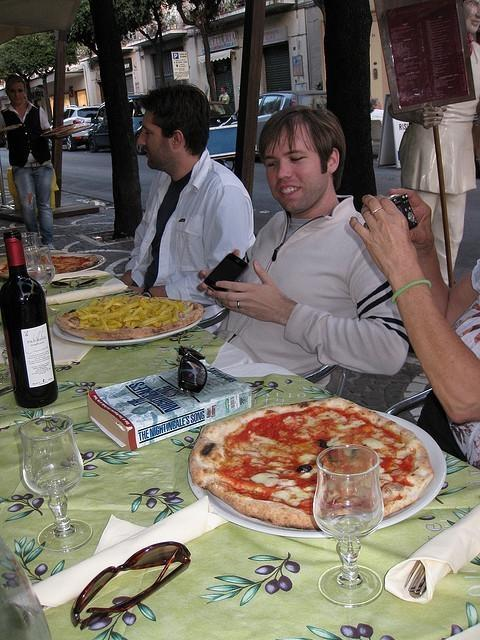car: (256, 88, 326, 156), (63, 106, 100, 151), (208, 101, 238, 125)
